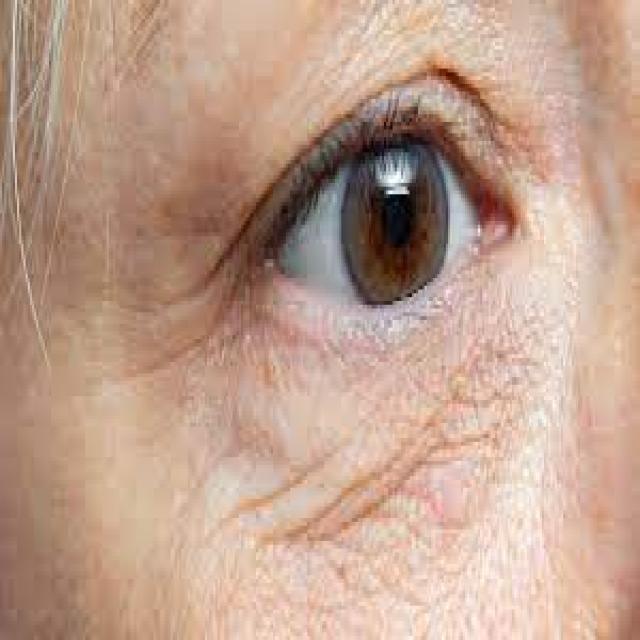Wrinkles: (206, 276, 527, 547)
